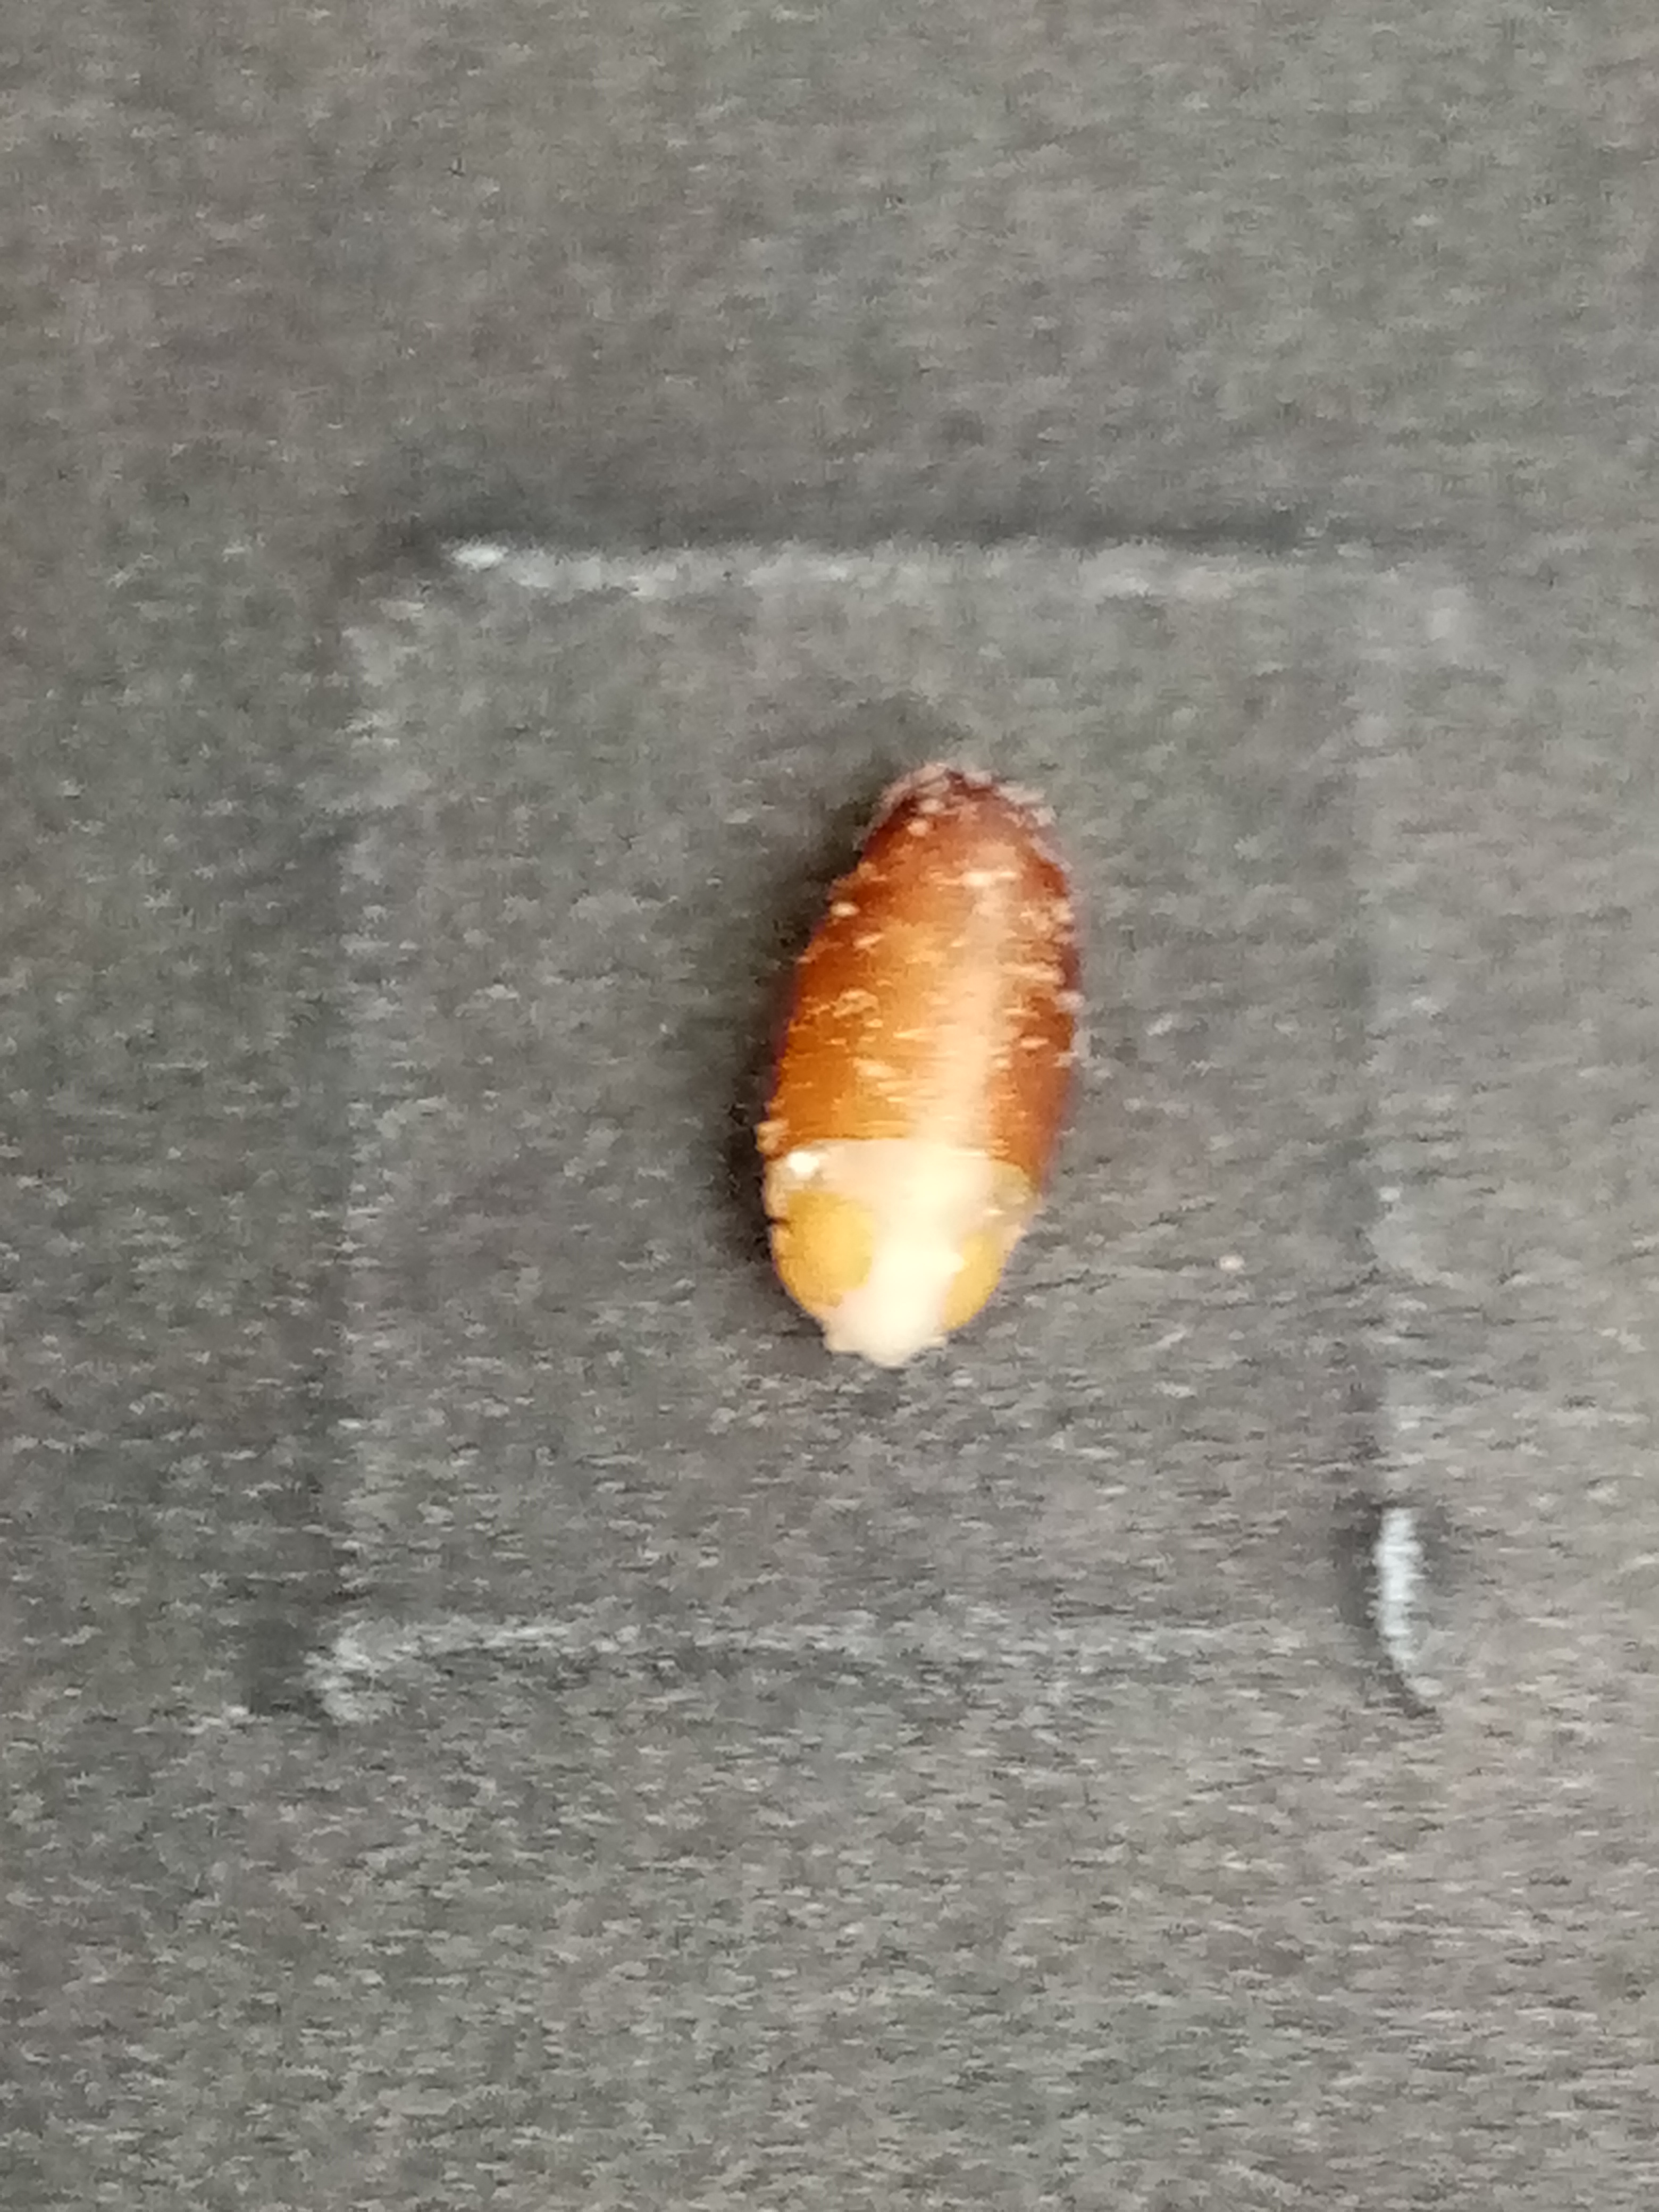pupa: (765, 1157, 1044, 1367)
